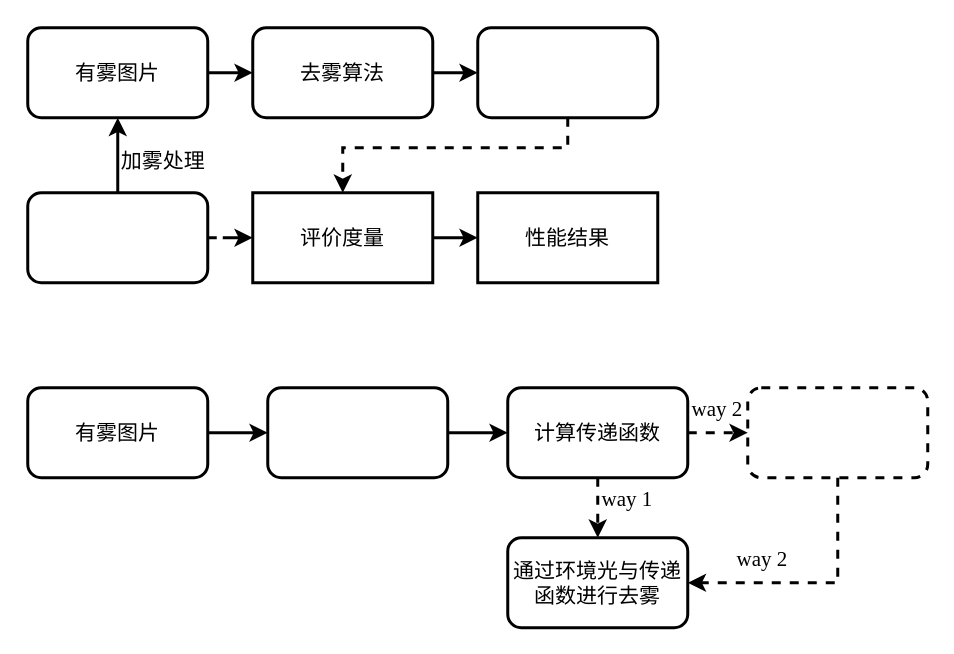
Some shapes in this 954 by 654 pixel diagram are drawn without their labels. The box of each missing label's shape, as (x1, y1, x2, y2) in pixels:
去雾图: (476, 26, 658, 118)
无雾原图: (26, 190, 208, 284)
计算大气/环境光AirLight: (266, 386, 448, 478)
计算边界函数: (746, 386, 928, 478)
